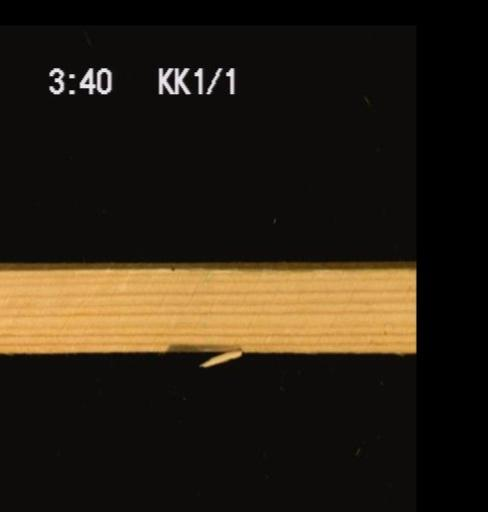wave: (162, 335, 246, 350)
